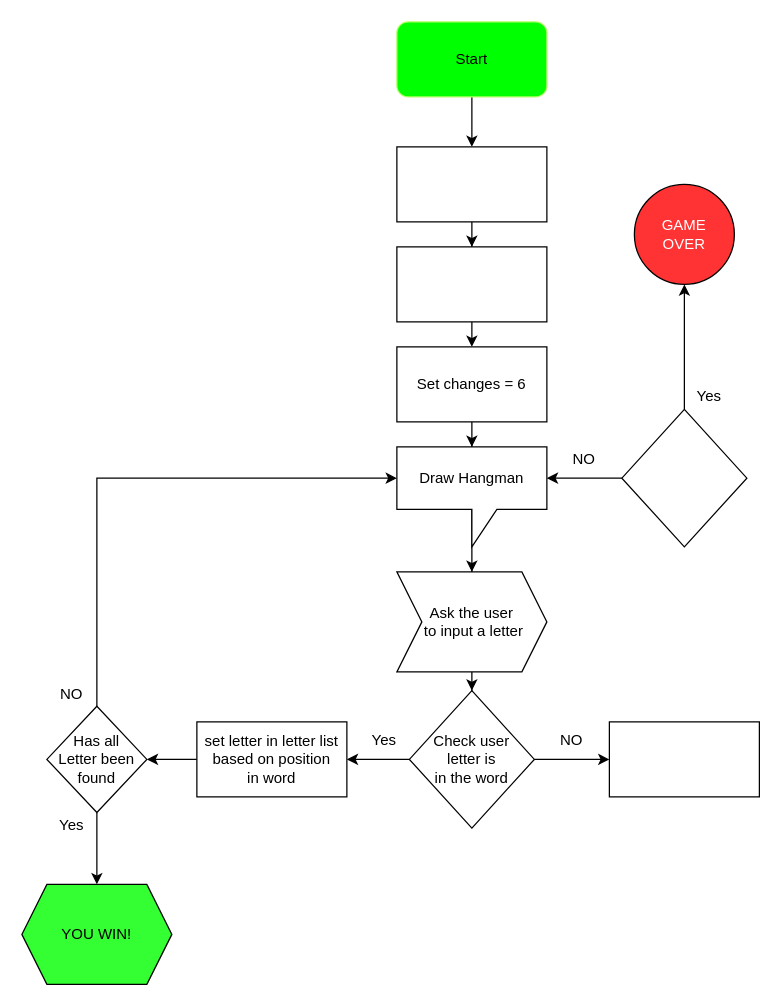
This 781x1006 diagram has some shape labels left out. The centre of each missing label's shape, as x and y in pixels:
Create empty letter list from word lenght: the point at 471,284
ifchanges == 0: the point at 684,477
Random select a word and set word: the point at 471,184
Set changes -= 1: the point at 683,759
